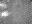person: (1, 8, 11, 16), (1, 1, 6, 5)
